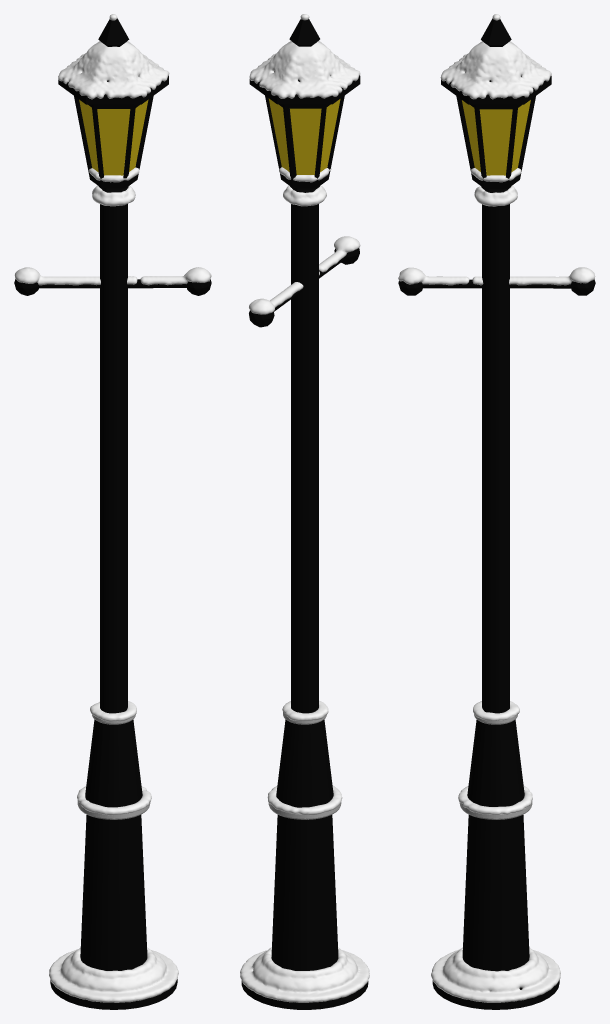
File: Light SNOW.fbx
3 views of the same model, side by side, from view 1: azimuth 90°, elevation 25°; view 2: azimuth 150°, elevation 25°; view 3: azimuth 270°, elevation 25° (orthographic).
Parts seen in each view (by area): view 1: FarmLight.004, SnowBall.001; view 2: FarmLight.004, SnowBall.001; view 3: FarmLight.004, SnowBall.001.
Part boxes in pixels (<box>): FarmLight.004: <box>14,18,211,1009</box>; SnowBall.001: <box>14,14,211,1002</box>; FarmLight.004: <box>241,19,368,1009</box>; SnowBall.001: <box>240,14,369,1002</box>; FarmLight.004: <box>398,18,595,1009</box>; SnowBall.001: <box>398,14,595,1002</box>.
Size of the model in its own units: 205 by 1681 by 311.
